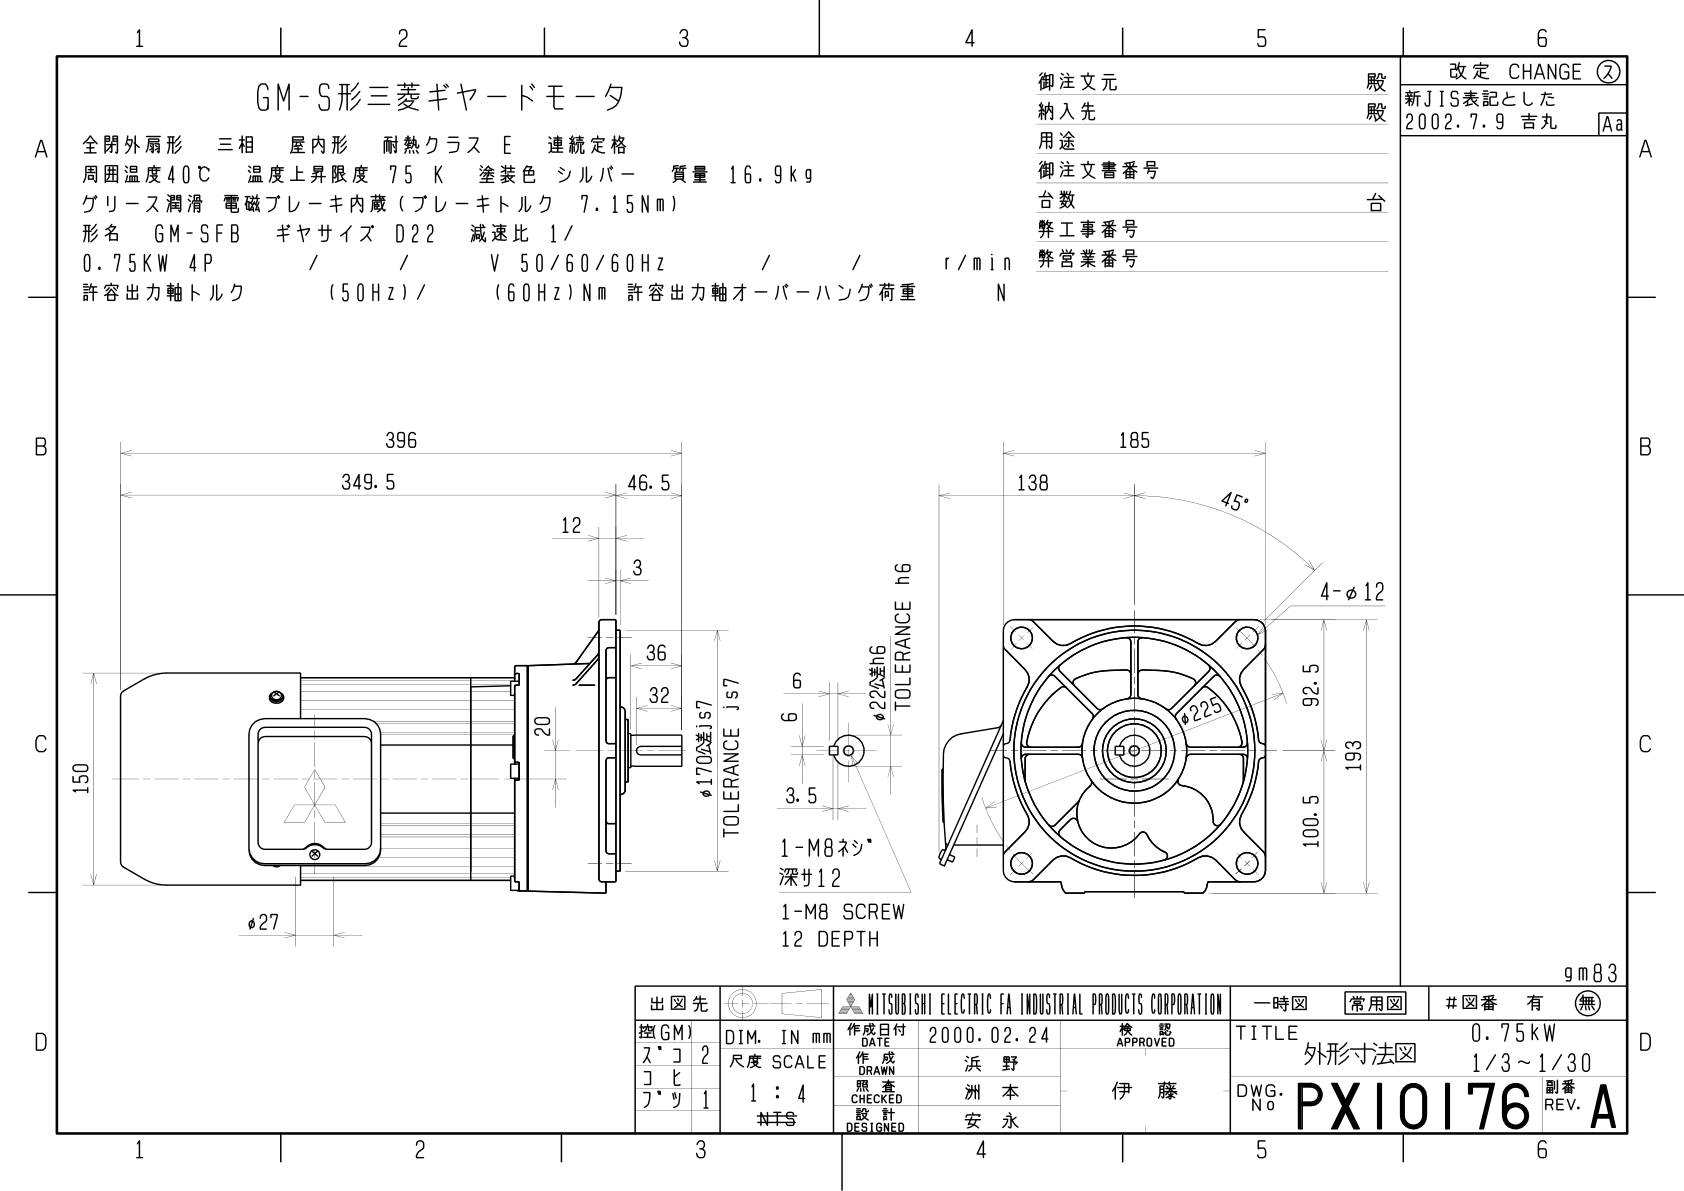GM_S_屋内＿三相_フランジ: (67, 357, 1392, 963)
